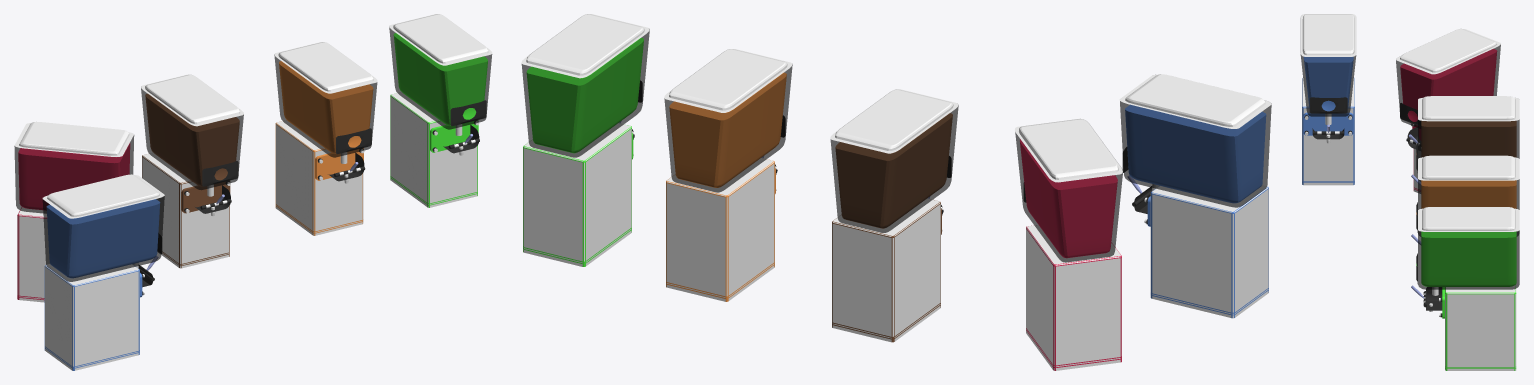
File: SauceMachines2.fbx
3 views of the same model, side by side, from view 1: azimuth 30°, elevation 25°; view 2: azimuth 150°, elevation 25°; view 3: azimuth 270°, elevation 25° (orthographic). The views are drawn at different scales.
Visible parts, largest first — view 1: body-sprinkle, body-caramel.002, body-pistachio, body-chocolate.001, glass.004, sprinkle, body-strawberry, glass.003, glass.002, glass.001, chocolate.001, caramel.002 (+3 smaller); view 2: body-sprinkle, body-pistachio, body-chocolate.001, body-caramel.002, body-strawberry, glass.004, sprinkle, glass.001, glass.003, glass.002, caramel.002, chocolate.001 (+3 smaller); view 3: body-pistachio, body-sprinkle, glass.003, pistachio, glass, glass.001, chocolate.001, body-strawberry, Strawberry, glass.002, body-chocolate.001, body-caramel.002 (+3 smaller).
Boxes of the visible parts, left/top/right/bottom form: body-sprinkle: left=42, top=174, right=164, bottom=370; body-caramel.002: left=274, top=42, right=377, bottom=235; body-pistachio: left=389, top=14, right=492, bottom=207; body-chocolate.001: left=141, top=74, right=243, bottom=268; glass.004: left=42, top=196, right=164, bottom=281; sprinkle: left=46, top=199, right=160, bottom=278; body-strawberry: left=14, top=121, right=133, bottom=302; glass.003: left=389, top=27, right=492, bottom=129; glass.002: left=274, top=54, right=377, bottom=157; glass.001: left=141, top=88, right=243, bottom=189; chocolate.001: left=145, top=93, right=239, bottom=186; caramel.002: left=279, top=61, right=373, bottom=153; body-sprinkle: left=1119, top=74, right=1271, bottom=318; body-pistachio: left=521, top=14, right=649, bottom=266; body-chocolate.001: left=830, top=89, right=958, bottom=342; body-caramel.002: left=664, top=49, right=792, bottom=301; body-strawberry: left=1015, top=118, right=1122, bottom=370; glass.004: left=1120, top=101, right=1271, bottom=207; sprinkle: left=1125, top=104, right=1266, bottom=203; glass.001: left=830, top=105, right=958, bottom=232; glass.003: left=521, top=29, right=649, bottom=157; glass.002: left=664, top=64, right=792, bottom=192; caramel.002: left=669, top=72, right=786, bottom=187; chocolate.001: left=835, top=113, right=952, bottom=228; body-pistachio: left=1416, top=207, right=1519, bottom=370; body-sprinkle: left=1300, top=14, right=1356, bottom=185; glass.003: left=1418, top=230, right=1519, bottom=289; pistachio: left=1421, top=231, right=1516, bottom=286; glass: left=1396, top=44, right=1500, bottom=128; glass.001: left=1418, top=119, right=1519, bottom=158; chocolate.001: left=1421, top=121, right=1516, bottom=157; body-strawberry: left=1396, top=28, right=1500, bottom=193; Strawberry: left=1400, top=49, right=1497, bottom=109; glass.002: left=1418, top=179, right=1519, bottom=236; body-chocolate.001: left=1416, top=96, right=1519, bottom=172; body-caramel.002: left=1416, top=155, right=1519, bottom=232.
Bounding box in the file's own units: 521 × 159 × 221.
